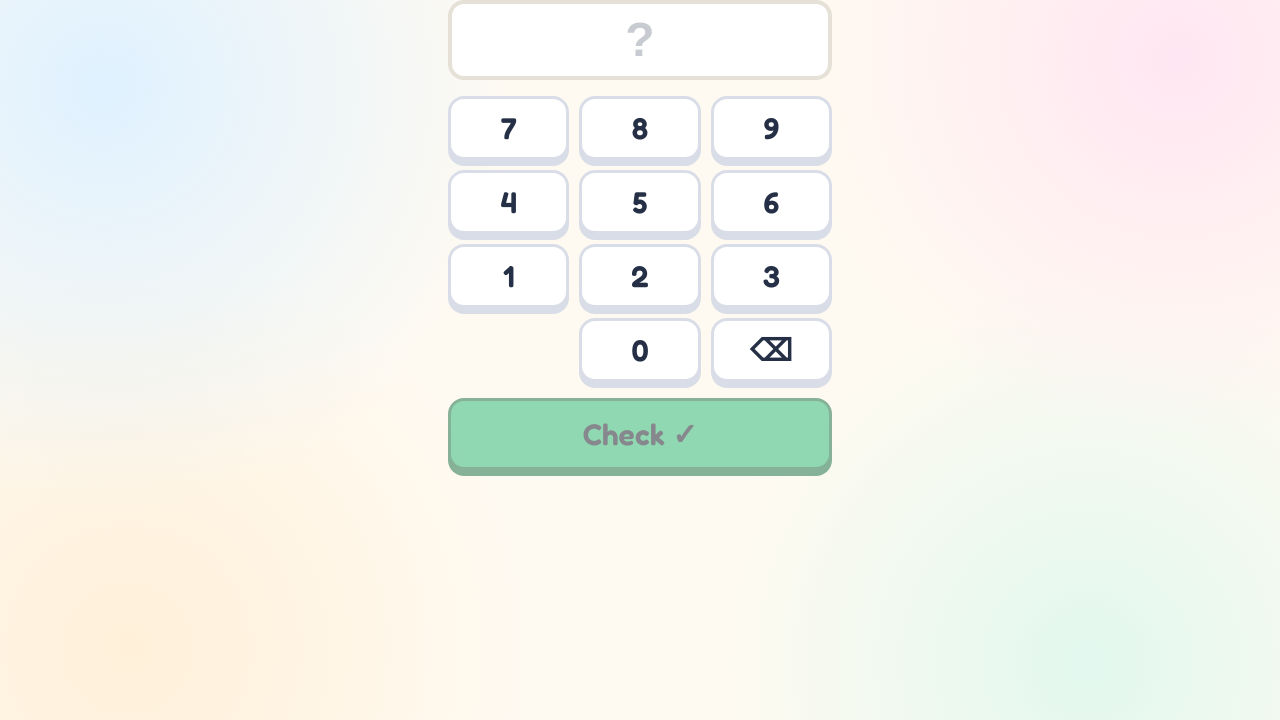
Test: InputQuestion › keeps Check disabled until something is typed
Expected: the button "Check ✓" is disabled, [448,398,832,470]
Click the button "1".
click(509, 276)  # box [448,244,569,308]
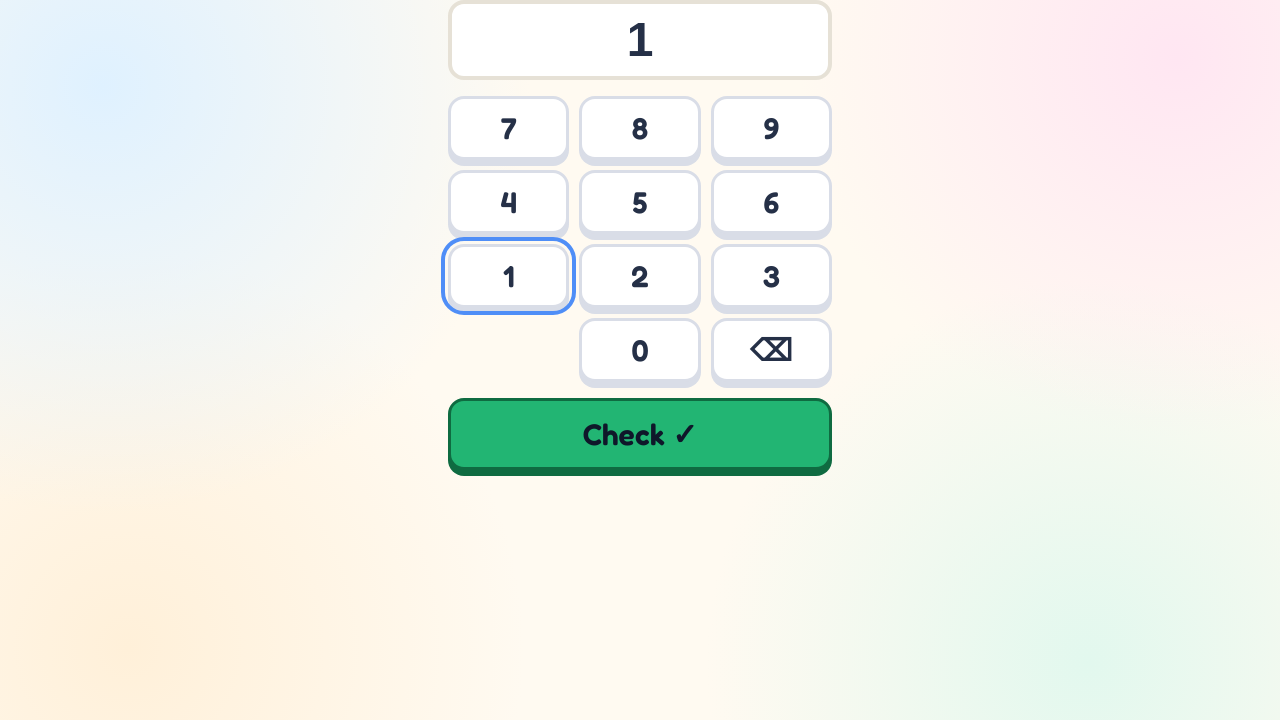
Result: the button "Check ✓" is enabled at [448,398,832,470]
